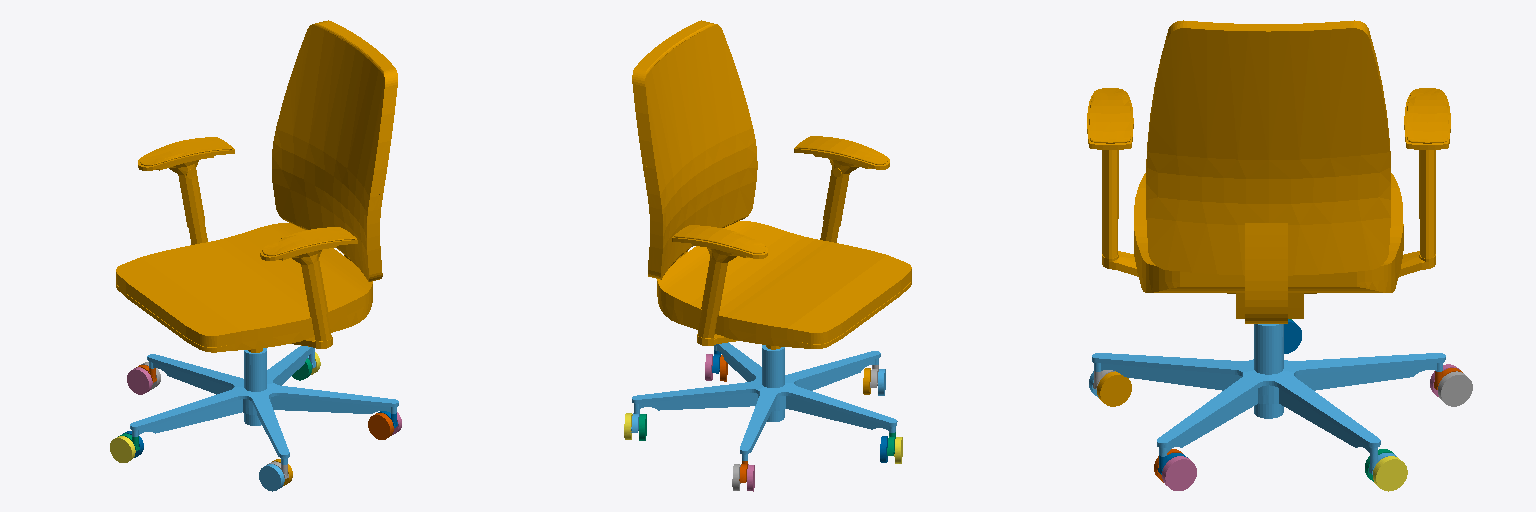
robot.urdf — partnet_53eaa7cca72c84f6cacd67ce2c72c02e:
<?xml version="1.0" ?>
<robot name="partnet_53eaa7cca72c84f6cacd67ce2c72c02e">
	<link name="base"/>
	<link name="link_0">
		<visual name="caster_yoke-34">
			<origin xyz="0.3205405563420618 0 0.32499959396697"/>
			<geometry>
				<mesh filename="textured_objs/original-12.obj"/>
			</geometry>
		</visual>
		<collision>
			<origin xyz="0.3205405563420618 0 0.32499959396697"/>
			<geometry>
				<mesh filename="textured_objs/original-12.obj"/>
			</geometry>
		</collision>
	</link>
	<joint name="joint_0" type="continuous">
		<origin xyz="-0.3205405563420618 0 -0.32499959396697"/>
		<axis xyz="0 1 0"/>
		<child link="link_0"/>
		<parent link="link_16"/>
	</joint>
	<link name="link_1">
		<visual name="wheel-35">
			<origin xyz="0.17555105057530057 0.6979004999999999 -0.08185603374894064"/>
			<geometry>
				<mesh filename="textured_objs/original-11.obj"/>
			</geometry>
		</visual>
		<collision>
			<origin xyz="0.17555105057530057 0.6979004999999999 -0.08185603374894064"/>
			<geometry>
				<mesh filename="textured_objs/original-11.obj"/>
			</geometry>
		</collision>
	</link>
	<joint name="joint_1" type="continuous">
		<origin xyz="0.14498950576676123 -0.6979004999999999 0.4068556277159106"/>
		<axis xyz="-0.4225980536300815 0 -0.9063172099591109"/>
		<child link="link_1"/>
		<parent link="link_0"/>
	</joint>
	<link name="link_2">
		<visual name="wheel-36">
			<origin xyz="0.17555105057530057 0.6979004999999999 -0.08185603374894064"/>
			<geometry>
				<mesh filename="textured_objs/original-10.obj"/>
			</geometry>
		</visual>
		<collision>
			<origin xyz="0.17555105057530057 0.6979004999999999 -0.08185603374894064"/>
			<geometry>
				<mesh filename="textured_objs/original-10.obj"/>
			</geometry>
		</collision>
	</link>
	<joint name="joint_2" type="continuous">
		<origin xyz="0.14498950576676123 -0.6979004999999999 0.4068556277159106"/>
		<axis xyz="-0.4225980536300815 0 -0.9063172099591109"/>
		<child link="link_2"/>
		<parent link="link_0"/>
	</joint>
	<link name="link_3">
		<visual name="caster_yoke-31">
			<origin xyz="-0.34141836560428135 0 0.32583743647253927"/>
			<geometry>
				<mesh filename="textured_objs/original-16.obj"/>
			</geometry>
		</visual>
		<collision>
			<origin xyz="-0.34141836560428135 0 0.32583743647253927"/>
			<geometry>
				<mesh filename="textured_objs/original-16.obj"/>
			</geometry>
		</collision>
	</link>
	<joint name="joint_3" type="continuous">
		<origin xyz="0.34141836560428135 0 -0.32583743647253927"/>
		<axis xyz="0 1 0"/>
		<child link="link_3"/>
		<parent link="link_16"/>
	</joint>
	<link name="link_4">
		<visual name="wheel-32">
			<origin xyz="-0.36807061219615006 0.6979005 0.17167561962734662"/>
			<geometry>
				<mesh filename="textured_objs/original-15.obj"/>
			</geometry>
		</visual>
		<collision>
			<origin xyz="-0.36807061219615006 0.6979005 0.17167561962734662"/>
			<geometry>
				<mesh filename="textured_objs/original-15.obj"/>
			</geometry>
		</collision>
	</link>
	<joint name="joint_4" type="continuous">
		<origin xyz="0.02665224659186871 -0.6979005 0.15416181684519265"/>
		<axis xyz="-0.42270214322053723 0 -0.9062686677342237"/>
		<child link="link_4"/>
		<parent link="link_3"/>
	</joint>
	<link name="link_5">
		<visual name="wheel-33">
			<origin xyz="-0.36807061219615006 0.6979005 0.17167561962734662"/>
			<geometry>
				<mesh filename="textured_objs/original-14.obj"/>
			</geometry>
		</visual>
		<collision>
			<origin xyz="-0.36807061219615006 0.6979005 0.17167561962734662"/>
			<geometry>
				<mesh filename="textured_objs/original-14.obj"/>
			</geometry>
		</collision>
	</link>
	<joint name="joint_5" type="continuous">
		<origin xyz="0.02665224659186871 -0.6979005 0.15416181684519265"/>
		<axis xyz="-0.42270214322053723 0 -0.9062686677342237"/>
		<child link="link_5"/>
		<parent link="link_3"/>
	</joint>
	<link name="link_6">
		<visual name="caster_yoke-28">
			<origin xyz="-0.548323424345853 0 -0.30401792968421754"/>
			<geometry>
				<mesh filename="textured_objs/original-20.obj"/>
			</geometry>
		</visual>
		<collision>
			<origin xyz="-0.548323424345853 0 -0.30401792968421754"/>
			<geometry>
				<mesh filename="textured_objs/original-20.obj"/>
			</geometry>
		</collision>
	</link>
	<joint name="joint_6" type="continuous">
		<origin xyz="0.548323424345853 0 0.30401792968421754"/>
		<axis xyz="0 1 0"/>
		<child link="link_6"/>
		<parent link="link_16"/>
	</joint>
	<link name="link_7">
		<visual name="wheel-29">
			<origin xyz="-0.29491880351460903 0.6979005 0.13752002204458236"/>
			<geometry>
				<mesh filename="textured_objs/original-18.obj"/>
			</geometry>
		</visual>
		<collision>
			<origin xyz="-0.29491880351460903 0.6979005 0.13752002204458236"/>
			<geometry>
				<mesh filename="textured_objs/original-18.obj"/>
			</geometry>
		</collision>
	</link>
	<joint name="joint_7" type="continuous">
		<origin xyz="-0.253404620831244 -0.6979005 -0.4415379517287999"/>
		<axis xyz="0.4226109897713038 0 0.9063111779761513"/>
		<child link="link_7"/>
		<parent link="link_6"/>
	</joint>
	<link name="link_8">
		<visual name="wheel-30">
			<origin xyz="-0.29491880351460903 0.6979005 0.13752002204458236"/>
			<geometry>
				<mesh filename="textured_objs/original-19.obj"/>
			</geometry>
		</visual>
		<collision>
			<origin xyz="-0.29491880351460903 0.6979005 0.13752002204458236"/>
			<geometry>
				<mesh filename="textured_objs/original-19.obj"/>
			</geometry>
		</collision>
	</link>
	<joint name="joint_8" type="continuous">
		<origin xyz="-0.253404620831244 -0.6979005 -0.4415379517287999"/>
		<axis xyz="0.4226109897713038 0 0.9063111779761513"/>
		<child link="link_8"/>
		<parent link="link_6"/>
	</joint>
	<link name="link_9">
		<visual name="caster_yoke-25">
			<origin xyz="-0.010478781085554292 0 -0.6923901912751"/>
			<geometry>
				<mesh filename="textured_objs/original-21.obj"/>
			</geometry>
		</visual>
		<collision>
			<origin xyz="-0.010478781085554292 0 -0.6923901912751"/>
			<geometry>
				<mesh filename="textured_objs/original-21.obj"/>
			</geometry>
		</collision>
	</link>
	<joint name="joint_9" type="continuous">
		<origin xyz="0.010478781085554292 0 0.6923901912751"/>
		<axis xyz="0 1 0"/>
		<child link="link_9"/>
		<parent link="link_16"/>
	</joint>
	<link name="link_10">
		<visual name="wheel-26">
			<origin xyz="0.2939932050017514 0.6979004999999999 -0.13714803508863144"/>
			<geometry>
				<mesh filename="textured_objs/original-25.obj"/>
			</geometry>
		</visual>
		<collision>
			<origin xyz="0.2939932050017514 0.6979004999999999 -0.13714803508863144"/>
			<geometry>
				<mesh filename="textured_objs/original-25.obj"/>
			</geometry>
		</collision>
	</link>
	<joint name="joint_10" type="continuous">
		<origin xyz="-0.3044719860873057 -0.6979004999999999 -0.5552421561864687"/>
		<axis xyz="-0.42276193742435536 0 -0.9062407760993793"/>
		<child link="link_10"/>
		<parent link="link_9"/>
	</joint>
	<link name="link_11">
		<visual name="wheel-27">
			<origin xyz="0.2939932050017514 0.6979004999999999 -0.13714803508863144"/>
			<geometry>
				<mesh filename="textured_objs/original-24.obj"/>
			</geometry>
		</visual>
		<collision>
			<origin xyz="0.2939932050017514 0.6979004999999999 -0.13714803508863144"/>
			<geometry>
				<mesh filename="textured_objs/original-24.obj"/>
			</geometry>
		</collision>
	</link>
	<joint name="joint_11" type="continuous">
		<origin xyz="-0.3044719860873057 -0.6979004999999999 -0.5552421561864687"/>
		<axis xyz="-0.42276193742435536 0 -0.9062407760993793"/>
		<child link="link_11"/>
		<parent link="link_9"/>
	</joint>
	<link name="link_12">
		<visual name="caster_yoke-19">
			<origin xyz="0.523650148095457 0 -0.30246644968039"/>
			<geometry>
				<mesh filename="textured_objs/original-8.obj"/>
			</geometry>
		</visual>
		<collision>
			<origin xyz="0.523650148095457 0 -0.30246644968039"/>
			<geometry>
				<mesh filename="textured_objs/original-8.obj"/>
			</geometry>
		</collision>
	</link>
	<joint name="joint_12" type="continuous">
		<origin xyz="-0.523650148095457 0 0.30246644968039"/>
		<axis xyz="0 1 0"/>
		<child link="link_12"/>
		<parent link="link_16"/>
	</joint>
	<link name="link_13">
		<visual name="wheel-20">
			<origin xyz="0.584679337817746 0.6979004999999999 -0.2726347539305859"/>
			<geometry>
				<mesh filename="textured_objs/original-7.obj"/>
			</geometry>
		</visual>
		<collision>
			<origin xyz="0.584679337817746 0.6979004999999999 -0.2726347539305859"/>
			<geometry>
				<mesh filename="textured_objs/original-7.obj"/>
			</geometry>
		</collision>
	</link>
	<joint name="joint_13" type="continuous">
		<origin xyz="-0.06102918972228899 -0.6979004999999999 -0.0298316957498041"/>
		<axis xyz="0.42261098977130773 0 0.9063111779761495"/>
		<child link="link_13"/>
		<parent link="link_12"/>
	</joint>
	<link name="link_14">
		<visual name="wheel-21">
			<origin xyz="0.584679337817746 0.6979004999999999 -0.2726347539305859"/>
			<geometry>
				<mesh filename="textured_objs/original-6.obj"/>
			</geometry>
		</visual>
		<collision>
			<origin xyz="0.584679337817746 0.6979004999999999 -0.2726347539305859"/>
			<geometry>
				<mesh filename="textured_objs/original-6.obj"/>
			</geometry>
		</collision>
	</link>
	<joint name="joint_14" type="continuous">
		<origin xyz="-0.06102918972228899 -0.6979004999999999 -0.0298316957498041"/>
		<axis xyz="0.42261098977130773 0 0.9063111779761495"/>
		<child link="link_14"/>
		<parent link="link_12"/>
	</joint>
	<link name="link_15">
		<visual name="back_soft_surface-54">
			<origin xyz="-0.011785 0 -0.1296245"/>
			<geometry>
				<mesh filename="textured_objs/original-28.obj"/>
			</geometry>
		</visual>
		<visual name="back_soft_surface-54">
			<origin xyz="-0.011785 0 -0.1296245"/>
			<geometry>
				<mesh filename="textured_objs/original-27.obj"/>
			</geometry>
		</visual>
		<visual name="back_soft_surface-54">
			<origin xyz="-0.011785 0 -0.1296245"/>
			<geometry>
				<mesh filename="textured_objs/original-26.obj"/>
			</geometry>
		</visual>
		<visual name="back_connector-53">
			<origin xyz="-0.011785 0 -0.1296245"/>
			<geometry>
				<mesh filename="textured_objs/original-44.obj"/>
			</geometry>
		</visual>
		<visual name="armrest_hard_surface-49">
			<origin xyz="-0.011785 0 -0.1296245"/>
			<geometry>
				<mesh filename="textured_objs/original-32.obj"/>
			</geometry>
		</visual>
		<visual name="armrest_hard_surface-49">
			<origin xyz="-0.011785 0 -0.1296245"/>
			<geometry>
				<mesh filename="textured_objs/original-31.obj"/>
			</geometry>
		</visual>
		<visual name="armrest_hard_surface-49">
			<origin xyz="-0.011785 0 -0.1296245"/>
			<geometry>
				<mesh filename="textured_objs/original-34.obj"/>
			</geometry>
		</visual>
		<visual name="arm_vertical_bar-50">
			<origin xyz="-0.011785 0 -0.1296245"/>
			<geometry>
				<mesh filename="textured_objs/original-30.obj"/>
			</geometry>
		</visual>
		<visual name="arm_vertical_bar-50">
			<origin xyz="-0.011785 0 -0.1296245"/>
			<geometry>
				<mesh filename="textured_objs/original-33.obj"/>
			</geometry>
		</visual>
		<visual name="arm_connector-51">
			<origin xyz="-0.011785 0 -0.1296245"/>
			<geometry>
				<mesh filename="textured_objs/original-35.obj"/>
			</geometry>
		</visual>
		<visual name="armrest_hard_surface-46">
			<origin xyz="-0.011785 0 -0.1296245"/>
			<geometry>
				<mesh filename="textured_objs/original-38.obj"/>
			</geometry>
		</visual>
		<visual name="armrest_hard_surface-46">
			<origin xyz="-0.011785 0 -0.1296245"/>
			<geometry>
				<mesh filename="textured_objs/original-39.obj"/>
			</geometry>
		</visual>
		<visual name="armrest_hard_surface-46">
			<origin xyz="-0.011785 0 -0.1296245"/>
			<geometry>
				<mesh filename="textured_objs/original-41.obj"/>
			</geometry>
		</visual>
		<visual name="arm_vertical_bar-47">
			<origin xyz="-0.011785 0 -0.1296245"/>
			<geometry>
				<mesh filename="textured_objs/original-37.obj"/>
			</geometry>
		</visual>
		<visual name="arm_vertical_bar-47">
			<origin xyz="-0.011785 0 -0.1296245"/>
			<geometry>
				<mesh filename="textured_objs/original-40.obj"/>
			</geometry>
		</visual>
		<visual name="arm_connector-48">
			<origin xyz="-0.011785 0 -0.1296245"/>
			<geometry>
				<mesh filename="textured_objs/original-42.obj"/>
			</geometry>
		</visual>
		<visual name="seat_soft_surface-58">
			<origin xyz="-0.011785 0 -0.1296245"/>
			<geometry>
				<mesh filename="textured_objs/original-1.obj"/>
			</geometry>
		</visual>
		<visual name="seat_support-57">
			<origin xyz="-0.011785 0 -0.1296245"/>
			<geometry>
				<mesh filename="textured_objs/original-2.obj"/>
			</geometry>
		</visual>
		<visual name="central_support-37">
			<origin xyz="-0.011785 0 -0.1296245"/>
			<geometry>
				<mesh filename="textured_objs/original-3.obj"/>
			</geometry>
		</visual>
		<visual name="central_support-37">
			<origin xyz="-0.011785 0 -0.1296245"/>
			<geometry>
				<mesh filename="textured_objs/original-43.obj"/>
			</geometry>
		</visual>
		<visual name="seat_connector-55">
			<origin xyz="-0.011785 0 -0.1296245"/>
			<geometry>
				<mesh filename="textured_objs/original-45.obj"/>
			</geometry>
		</visual>
		<visual name="seat_connector-55">
			<origin xyz="-0.011785 0 -0.1296245"/>
			<geometry>
				<mesh filename="textured_objs/original-46.obj"/>
			</geometry>
		</visual>
		<collision>
			<origin xyz="-0.011785 0 -0.1296245"/>
			<geometry>
				<mesh filename="textured_objs/original-28.obj"/>
			</geometry>
		</collision>
		<collision>
			<origin xyz="-0.011785 0 -0.1296245"/>
			<geometry>
				<mesh filename="textured_objs/original-27.obj"/>
			</geometry>
		</collision>
		<collision>
			<origin xyz="-0.011785 0 -0.1296245"/>
			<geometry>
				<mesh filename="textured_objs/original-26.obj"/>
			</geometry>
		</collision>
		<collision>
			<origin xyz="-0.011785 0 -0.1296245"/>
			<geometry>
				<mesh filename="textured_objs/original-44.obj"/>
			</geometry>
		</collision>
		<collision>
			<origin xyz="-0.011785 0 -0.1296245"/>
			<geometry>
				<mesh filename="textured_objs/original-32.obj"/>
			</geometry>
		</collision>
		<collision>
			<origin xyz="-0.011785 0 -0.1296245"/>
			<geometry>
				<mesh filename="textured_objs/original-31.obj"/>
			</geometry>
		</collision>
		<collision>
			<origin xyz="-0.011785 0 -0.1296245"/>
			<geometry>
				<mesh filename="textured_objs/original-34.obj"/>
			</geometry>
		</collision>
		<collision>
			<origin xyz="-0.011785 0 -0.1296245"/>
			<geometry>
				<mesh filename="textured_objs/original-30.obj"/>
			</geometry>
		</collision>
		<collision>
			<origin xyz="-0.011785 0 -0.1296245"/>
			<geometry>
				<mesh filename="textured_objs/original-33.obj"/>
			</geometry>
		</collision>
		<collision>
			<origin xyz="-0.011785 0 -0.1296245"/>
			<geometry>
				<mesh filename="textured_objs/original-35.obj"/>
			</geometry>
		</collision>
		<collision>
			<origin xyz="-0.011785 0 -0.1296245"/>
			<geometry>
				<mesh filename="textured_objs/original-38.obj"/>
			</geometry>
		</collision>
		<collision>
			<origin xyz="-0.011785 0 -0.1296245"/>
			<geometry>
				<mesh filename="textured_objs/original-39.obj"/>
			</geometry>
		</collision>
		<collision>
			<origin xyz="-0.011785 0 -0.1296245"/>
			<geometry>
				<mesh filename="textured_objs/original-41.obj"/>
			</geometry>
		</collision>
		<collision>
			<origin xyz="-0.011785 0 -0.1296245"/>
			<geometry>
				<mesh filename="textured_objs/original-37.obj"/>
			</geometry>
		</collision>
		<collision>
			<origin xyz="-0.011785 0 -0.1296245"/>
			<geometry>
				<mesh filename="textured_objs/original-40.obj"/>
			</geometry>
		</collision>
		<collision>
			<origin xyz="-0.011785 0 -0.1296245"/>
			<geometry>
				<mesh filename="textured_objs/original-42.obj"/>
			</geometry>
		</collision>
		<collision>
			<origin xyz="-0.011785 0 -0.1296245"/>
			<geometry>
				<mesh filename="textured_objs/original-1.obj"/>
			</geometry>
		</collision>
		<collision>
			<origin xyz="-0.011785 0 -0.1296245"/>
			<geometry>
				<mesh filename="textured_objs/original-2.obj"/>
			</geometry>
		</collision>
		<collision>
			<origin xyz="-0.011785 0 -0.1296245"/>
			<geometry>
				<mesh filename="textured_objs/original-3.obj"/>
			</geometry>
		</collision>
		<collision>
			<origin xyz="-0.011785 0 -0.1296245"/>
			<geometry>
				<mesh filename="textured_objs/original-43.obj"/>
			</geometry>
		</collision>
		<collision>
			<origin xyz="-0.011785 0 -0.1296245"/>
			<geometry>
				<mesh filename="textured_objs/original-45.obj"/>
			</geometry>
		</collision>
		<collision>
			<origin xyz="-0.011785 0 -0.1296245"/>
			<geometry>
				<mesh filename="textured_objs/original-46.obj"/>
			</geometry>
		</collision>
	</link>
	<joint name="joint_15" type="continuous">
		<origin xyz="0.0 0 0.0"/>
		<axis xyz="0 -1 0"/>
		<child link="link_15"/>
		<parent link="link_15_helper"/>
	</joint>
	<link name="link_16">
		<visual name="central_support-7">
			<origin xyz="0 0 0"/>
			<geometry>
				<mesh filename="textured_objs/new-5.obj"/>
			</geometry>
		</visual>
		<visual name="central_support-7">
			<origin xyz="0 0 0"/>
			<geometry>
				<mesh filename="textured_objs/original-4.obj"/>
			</geometry>
		</visual>
		<visual name="leg-9">
			<origin xyz="0 0 0"/>
			<geometry>
				<mesh filename="textured_objs/new-3.obj"/>
			</geometry>
		</visual>
		<visual name="leg-10">
			<origin xyz="0 0 0"/>
			<geometry>
				<mesh filename="textured_objs/new-2.obj"/>
			</geometry>
		</visual>
		<visual name="leg-11">
			<origin xyz="0 0 0"/>
			<geometry>
				<mesh filename="textured_objs/new-1.obj"/>
			</geometry>
		</visual>
		<visual name="leg-12">
			<origin xyz="0 0 0"/>
			<geometry>
				<mesh filename="textured_objs/new-0.obj"/>
			</geometry>
		</visual>
		<visual name="leg-13">
			<origin xyz="0 0 0"/>
			<geometry>
				<mesh filename="textured_objs/new-4.obj"/>
			</geometry>
		</visual>
		<collision>
			<origin xyz="0 0 0"/>
			<geometry>
				<mesh filename="textured_objs/new-5.obj"/>
			</geometry>
		</collision>
		<collision>
			<origin xyz="0 0 0"/>
			<geometry>
				<mesh filename="textured_objs/original-4.obj"/>
			</geometry>
		</collision>
		<collision>
			<origin xyz="0 0 0"/>
			<geometry>
				<mesh filename="textured_objs/new-3.obj"/>
			</geometry>
		</collision>
		<collision>
			<origin xyz="0 0 0"/>
			<geometry>
				<mesh filename="textured_objs/new-2.obj"/>
			</geometry>
		</collision>
		<collision>
			<origin xyz="0 0 0"/>
			<geometry>
				<mesh filename="textured_objs/new-1.obj"/>
			</geometry>
		</collision>
		<collision>
			<origin xyz="0 0 0"/>
			<geometry>
				<mesh filename="textured_objs/new-0.obj"/>
			</geometry>
		</collision>
		<collision>
			<origin xyz="0 0 0"/>
			<geometry>
				<mesh filename="textured_objs/new-4.obj"/>
			</geometry>
		</collision>
	</link>
	<joint name="joint_16" type="fixed">
		<origin rpy="1.570796326794897 0 -1.570796326794897" xyz="0 0 0"/>
		<child link="link_16"/>
		<parent link="base"/>
	</joint>
	<link name="link_15_helper"/>
	<joint name="joint_17" type="prismatic">
		<origin xyz="0.011785 0 0.1296245"/>
		<axis xyz="0 -1 0"/>
		<child link="link_15_helper"/>
		<parent link="link_16"/>
		<limit lower="0" upper="0.052000000000000046"/>
	</joint>
</robot>

--- Render facts (derived) ---
Views: 3 orthographic renders of the robot side by side, from view 1: azimuth 30°, elevation 25°; view 2: azimuth 150°, elevation 25°; view 3: azimuth 270°, elevation 25°.
Robot: partnet_53eaa7cca72c84f6cacd67ce2c72c02e — 19 links, 18 joints (16 continuous, 1 prismatic, 1 fixed); root link base; default pose: all joints at 0.
Links seen in each view (by area): view 1: link_15, link_16, link_4, link_8, link_10, link_13; view 2: link_15, link_16; view 3: link_15, link_16, link_5, link_2, link_14, link_7.
Boxes of the visible links, x1,y1,x2,y2 form: link_15: (116, 20, 397, 352); link_16: (130, 346, 398, 464); link_4: (368, 413, 393, 439); link_8: (259, 464, 284, 491); link_10: (110, 436, 135, 462); link_13: (127, 367, 152, 394); link_15: (632, 20, 911, 349); link_16: (632, 342, 897, 460); link_15: (1087, 20, 1450, 323); link_16: (1092, 324, 1445, 456); link_5: (1162, 456, 1196, 490); link_2: (1373, 456, 1407, 491); link_14: (1438, 371, 1472, 406); link_7: (1097, 371, 1131, 406).
Size in the robot's own frame: 1.17 by 1.21 by 1.62 metres.
Meshes: 44 distinct files referenced, 44 mesh visuals loaded (44 OBJ).